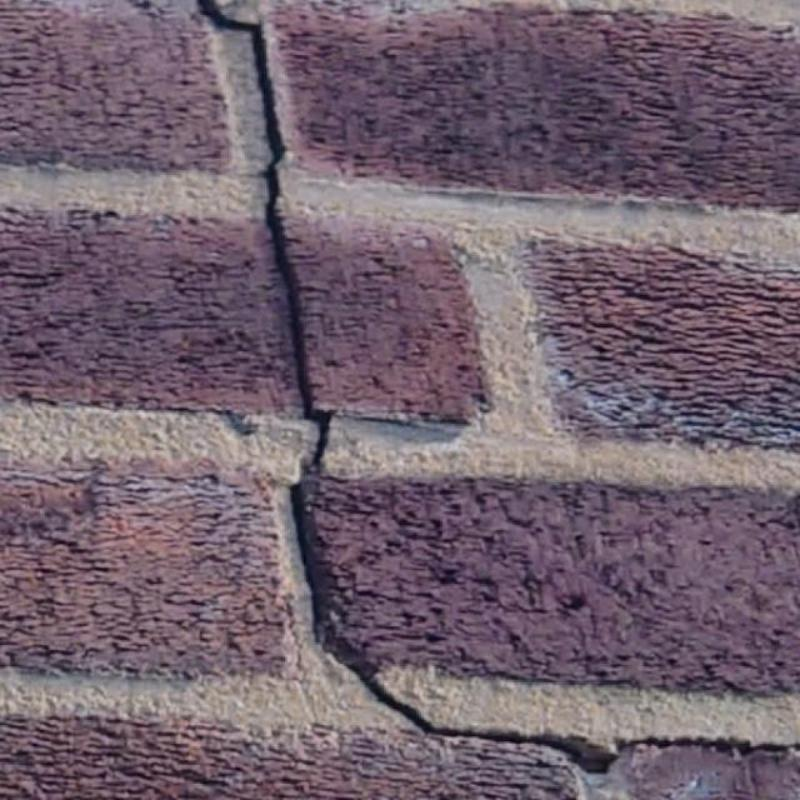pothole: (291, 488, 800, 773), (202, 0, 333, 479)
